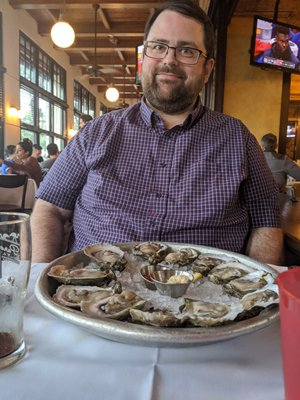sushi: (141, 262, 196, 298)
